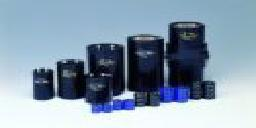Electrolytic-Capacitor: (167, 20, 208, 83), (125, 32, 167, 85), (86, 42, 125, 74), (82, 70, 116, 106), (57, 58, 84, 100), (31, 65, 54, 101)
